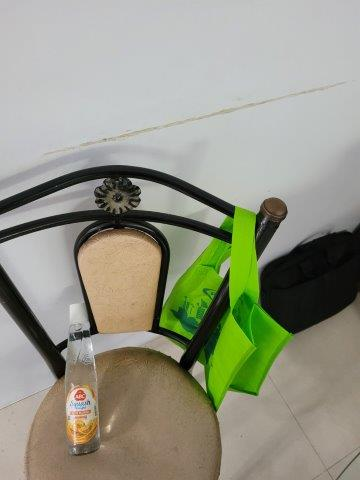botolkaca: (65, 302, 100, 455)
